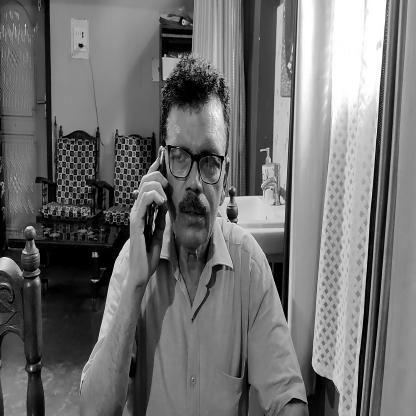Normal: (160, 63, 229, 245)
